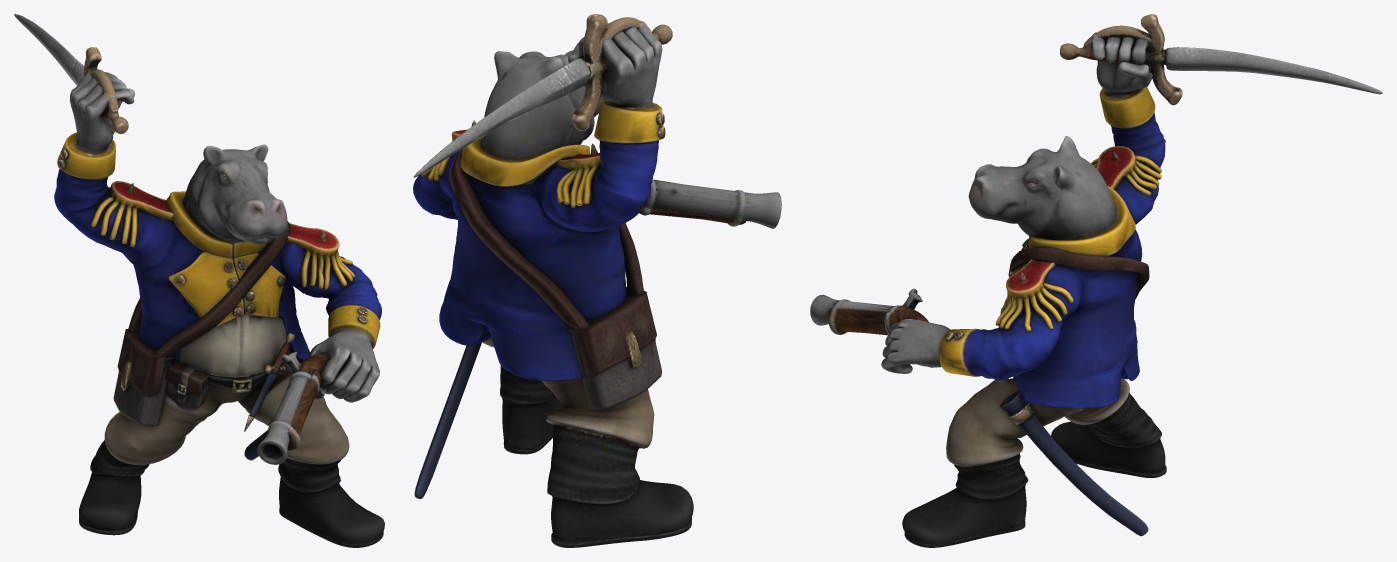
Rendered from MZ4250 - Giff 2.glb.
3 renders of one model, left to right at view 1: azimuth 30°, elevation 25°; view 2: azimuth 150°, elevation 25°; view 3: azimuth 270°, elevation 25°, orthographic. The views are drawn at different scales.
Visible parts, largest first — view 1: Body.002; view 2: Body.002; view 3: Body.002.
Part boxes in pixels (left/top/right/bottom): Body.002: left=14, top=14, right=384, bottom=547; Body.002: left=413, top=14, right=781, bottom=547; Body.002: left=810, top=14, right=1382, bottom=547.
Size of the model in its own units: 0.6866 by 1.13 by 1.31.
Materials: 1 (1 with a texture image).
